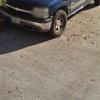Car: (2, 1, 99, 38)
